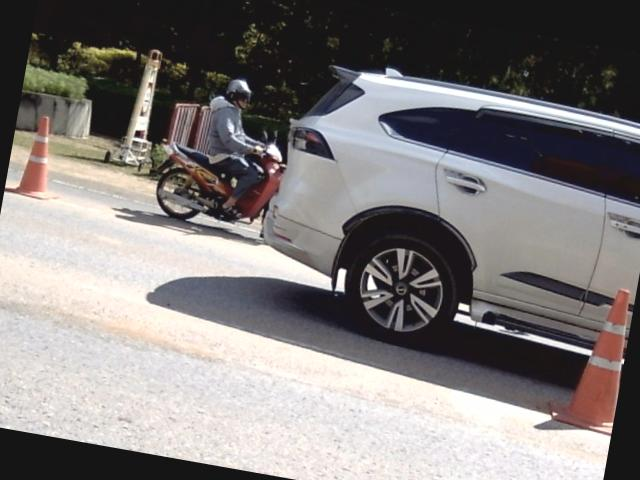helmet: (224, 77, 252, 109)
motor: (154, 131, 285, 223)
person: (208, 79, 264, 217)
